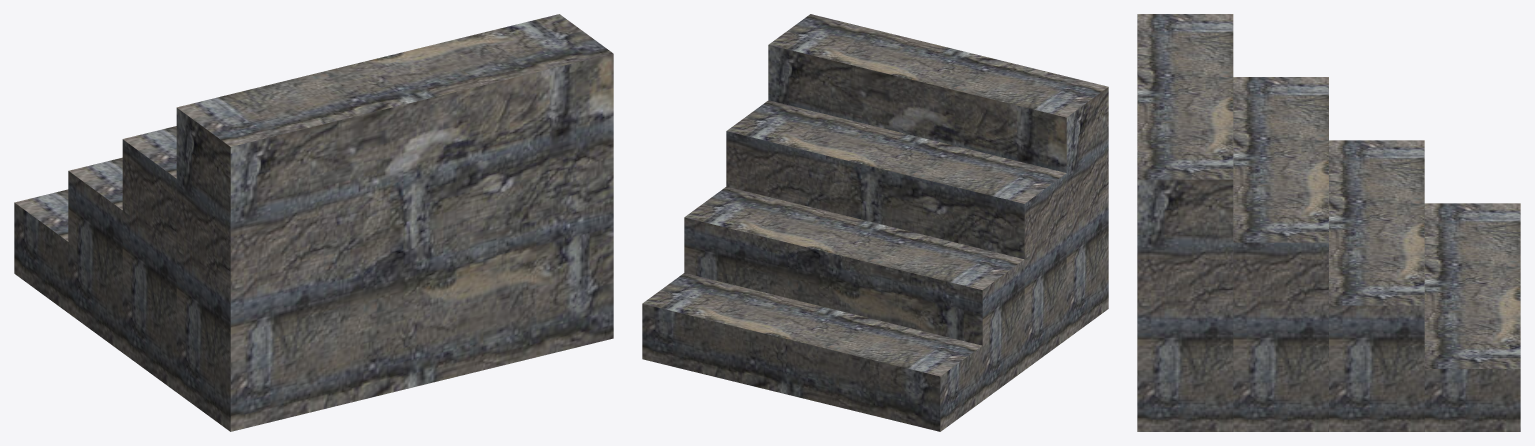
Rendered from stair_brick.glb.
3 views of the same model, side by side, from view 1: azimuth 30°, elevation 25°; view 2: azimuth 150°, elevation 25°; view 3: azimuth 270°, elevation 25° (orthographic). The views are drawn at different scales.
Visible parts, largest first — view 1: stair; view 2: stair; view 3: stair.
Boxes of the visible parts, x1,y1,x2,y2 form: stair: [14, 14, 613, 431]; stair: [642, 14, 1108, 431]; stair: [1137, 14, 1520, 431].
Bounding box in the file's own units: 0.9 × 0.64 × 0.88.
Materials: 1 (1 with a texture image).
